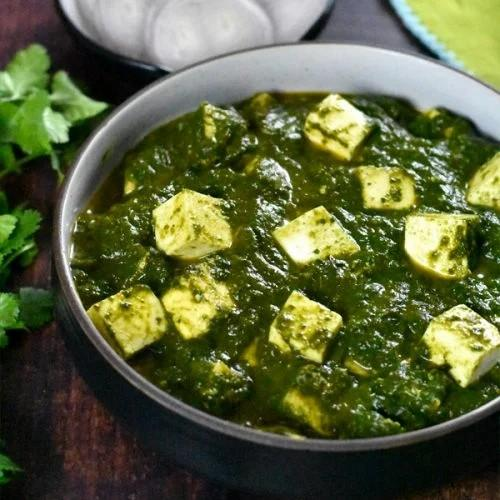PalakPaneer: (82, 87, 500, 439)
